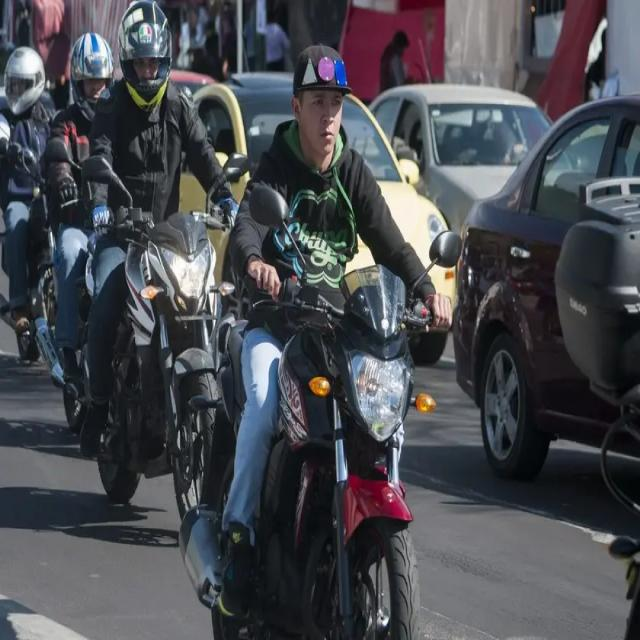MOTORCYCLE: (227, 265, 429, 640), (91, 197, 228, 540)
